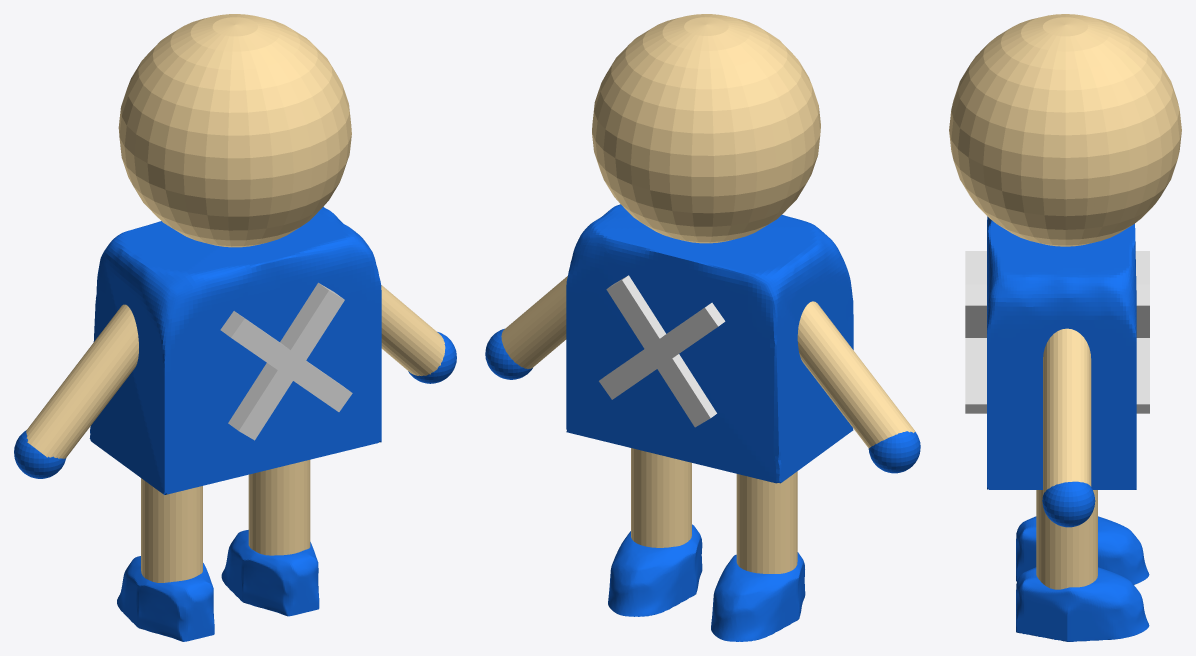
Rendered from Blue_player_final_final.fbx.
3 views of the same model, side by side, from view 1: azimuth 30°, elevation 25°; view 2: azimuth 150°, elevation 25°; view 3: azimuth 270°, elevation 25° (orthographic).
Parts seen in each view (by area): view 1: Cube.001, Sphere.001, Cube.002, Cylinder.007, Cylinder.004, Cylinder.022, Cylinder.023, Cylinder.005, Cylinder.006, Sphere.005, Sphere.004; view 2: Cube.001, Sphere.001, Cube.003, Cylinder.007, Cylinder.022, Cylinder.023, Cylinder.004, Cylinder.005, Cylinder.006, Sphere.005, Sphere.004; view 3: Sphere.001, Cube.001, Cylinder.022, Cylinder.006, Cylinder.005, Cube.002, Cylinder.023, Cube.003, Sphere.004.
Boxes of the visible parts, bbox=[...] form: Cube.001: bbox=[89, 207, 381, 494]; Sphere.001: bbox=[118, 14, 351, 247]; Cube.002: bbox=[220, 282, 352, 440]; Cylinder.007: bbox=[26, 304, 138, 458]; Cylinder.004: bbox=[141, 478, 202, 582]; Cylinder.022: bbox=[221, 530, 319, 616]; Cylinder.023: bbox=[117, 556, 214, 641]; Cylinder.005: bbox=[248, 460, 310, 555]; Cylinder.006: bbox=[381, 285, 445, 375]; Sphere.005: bbox=[14, 430, 66, 478]; Sphere.004: bbox=[408, 332, 456, 383]; Cube.001: bbox=[566, 204, 853, 483]; Sphere.001: bbox=[592, 14, 820, 243]; Cube.003: bbox=[599, 275, 725, 427]; Cylinder.007: bbox=[797, 301, 915, 448]; Cylinder.022: bbox=[608, 524, 702, 616]; Cylinder.023: bbox=[711, 552, 805, 641]; Cylinder.004: bbox=[736, 471, 797, 573]; Cylinder.005: bbox=[631, 448, 691, 547]; Cylinder.006: bbox=[501, 276, 567, 368]; Sphere.005: bbox=[868, 431, 920, 473]; Sphere.004: bbox=[485, 328, 532, 379]; Sphere.001: bbox=[949, 14, 1181, 246]; Cube.001: bbox=[987, 216, 1136, 489]; Cylinder.022: bbox=[1016, 567, 1149, 641]; Cylinder.006: bbox=[1043, 328, 1091, 494]; Cylinder.005: bbox=[1036, 490, 1097, 589]; Cube.002: bbox=[965, 251, 986, 413]; Cylinder.023: bbox=[1016, 516, 1149, 584]; Cube.003: bbox=[1135, 251, 1149, 413]; Sphere.004: bbox=[1042, 481, 1095, 527].
Bounding box in the file's own units: 517 × 659 × 240.
